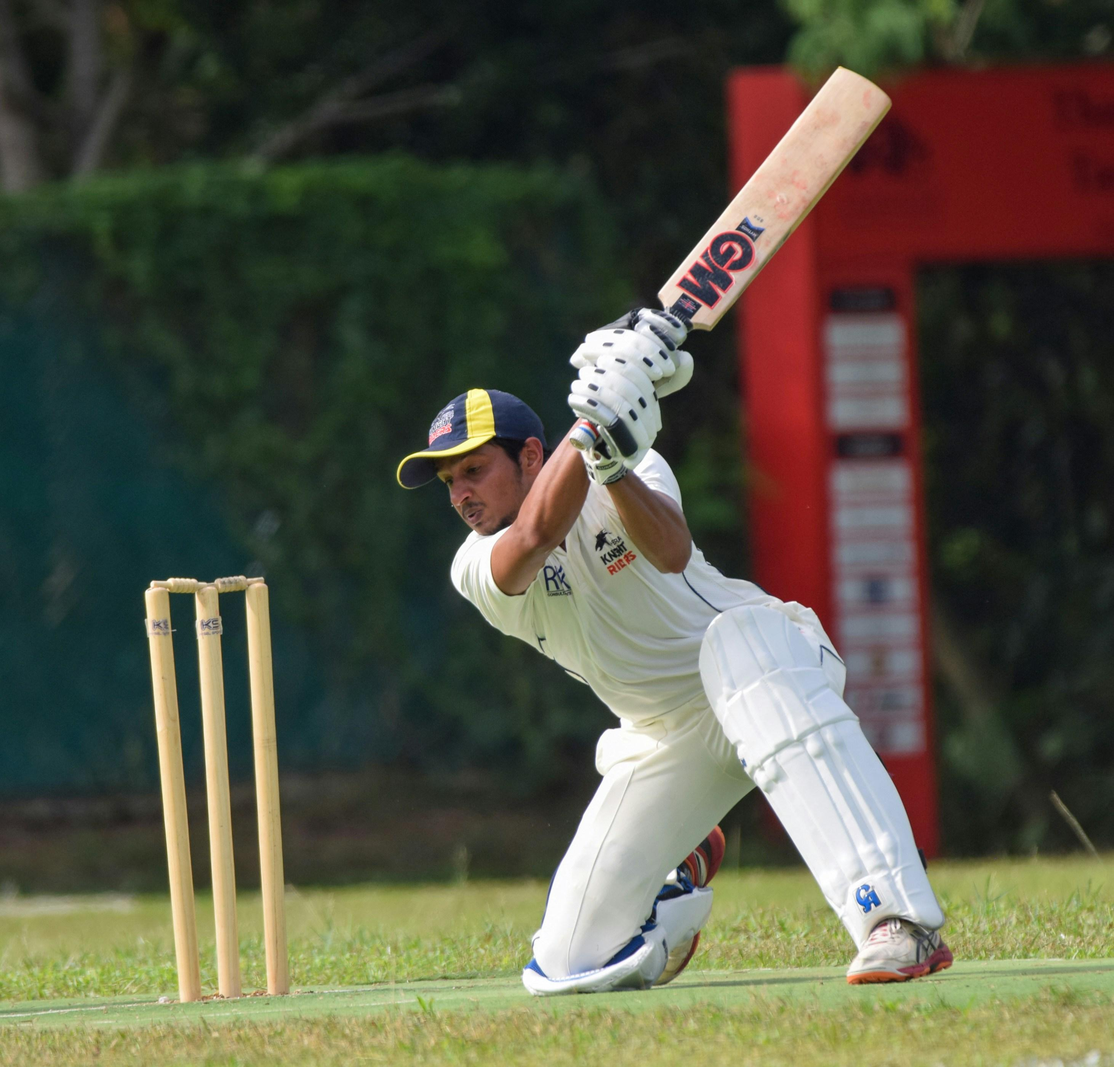batsman: (344, 362, 981, 1021)
